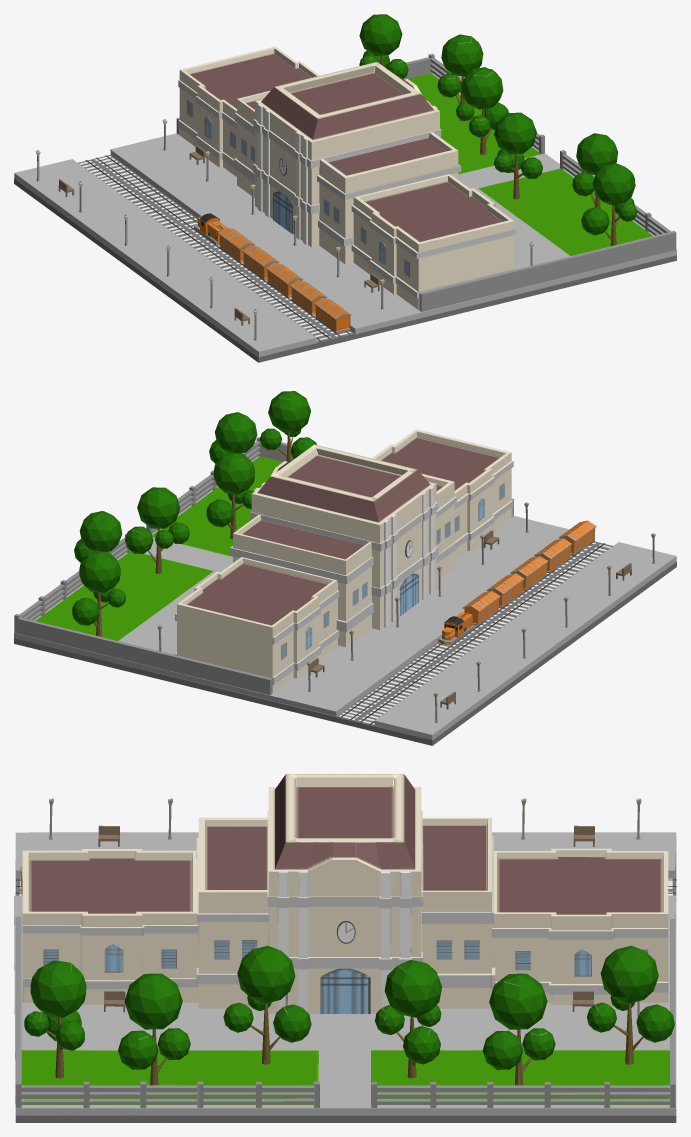
Rendered from trainStationChanged.fbx.
The picture shows the model from 3 angles, top to bottom: view 1: azimuth 30°, elevation 25°; view 2: azimuth 150°, elevation 25°; view 3: azimuth 270°, elevation 25°; orthographic projection. The views are drawn at different scales.
Visible parts, largest first — view 1: Train station; view 2: Train station; view 3: Train station.
Boxes of the visible parts, x1,y1,x2,y2 form: Train station: (14,14,676,362); Train station: (14,391,676,745); Train station: (14,774,676,1122).
Size of the model in its own units: 2266 by 679 by 2292.
1 material, 1 textured.
